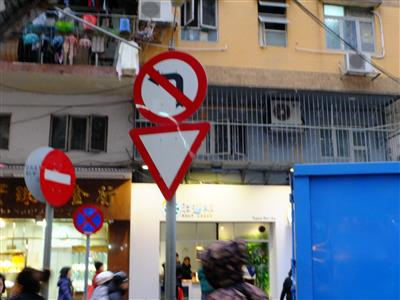noEntry: (38, 146, 75, 206)
noLeftTurn: (130, 46, 210, 125)
noStopping: (71, 201, 105, 235)
yield: (125, 120, 214, 201)
